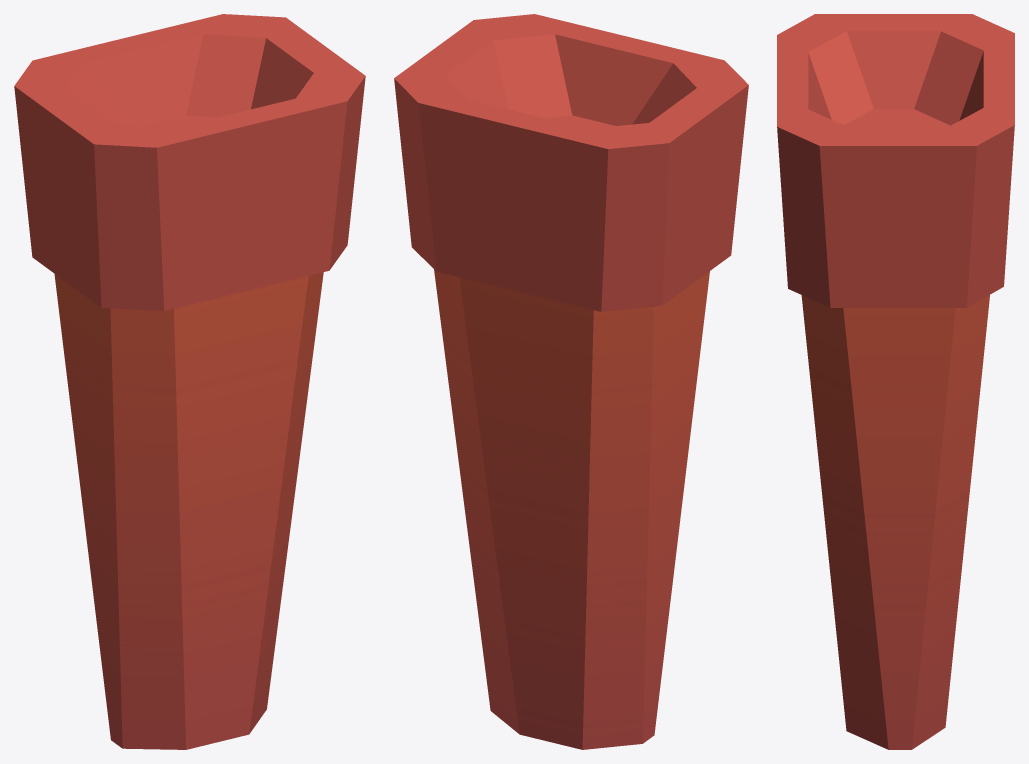
File: varita_minas.fbx
3 views of the same model, side by side, from view 1: azimuth 30°, elevation 25°; view 2: azimuth 150°, elevation 25°; view 3: azimuth 270°, elevation 25° (orthographic).
Visible parts, largest first — view 1: varita_minas; view 2: varita_minas; view 3: varita_minas.
Part boxes in pixels (box(x1,y1,x2,y2)): varita_minas: box(14, 14, 365, 749); varita_minas: box(394, 14, 748, 749); varita_minas: box(777, 14, 1014, 749).
Size of the model in its own units: 42.47 by 95.32 by 32.37.
Materials: 1 (1 with a texture image).
